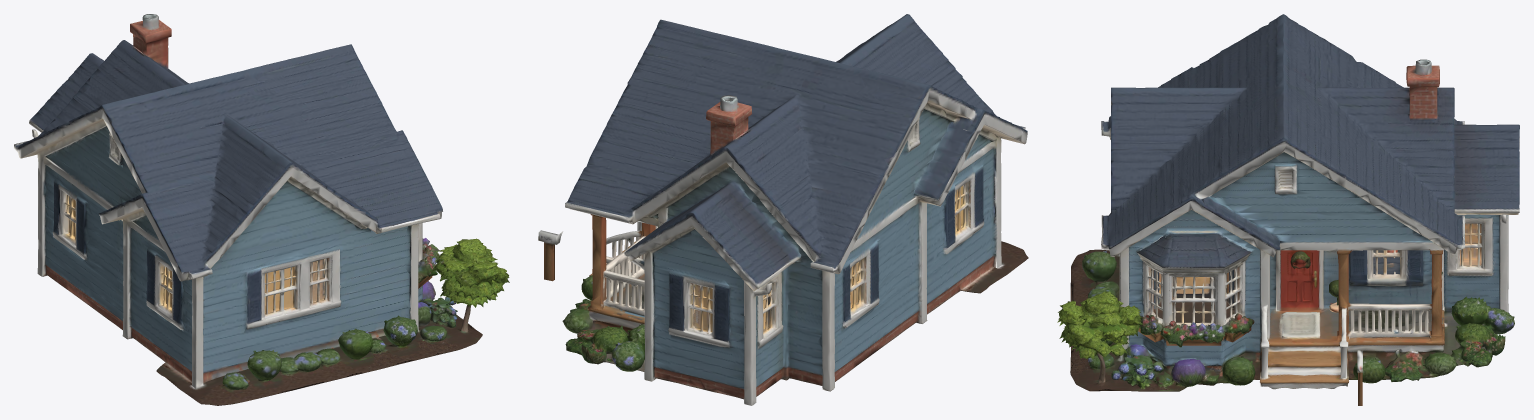
The model's file is house_c.glb.
3 renders of one model, left to right at view 1: azimuth 30°, elevation 25°; view 2: azimuth 150°, elevation 25°; view 3: azimuth 270°, elevation 25°, orthographic. The views are drawn at different scales.
Parts seen in each view (by area): view 1: tripo_node_9e7ec117-aa30-435d-84da-353a1a9d04e5; view 2: tripo_node_9e7ec117-aa30-435d-84da-353a1a9d04e5; view 3: tripo_node_9e7ec117-aa30-435d-84da-353a1a9d04e5.
Part boxes in pixels (<box>): tripo_node_9e7ec117-aa30-435d-84da-353a1a9d04e5: <box>14,14,509,405</box>; tripo_node_9e7ec117-aa30-435d-84da-353a1a9d04e5: <box>538,14,1028,405</box>; tripo_node_9e7ec117-aa30-435d-84da-353a1a9d04e5: <box>1057,14,1519,405</box>.
Size of the model in its own units: 0.8376 by 0.585 by 1.
1 material, 1 textured.
